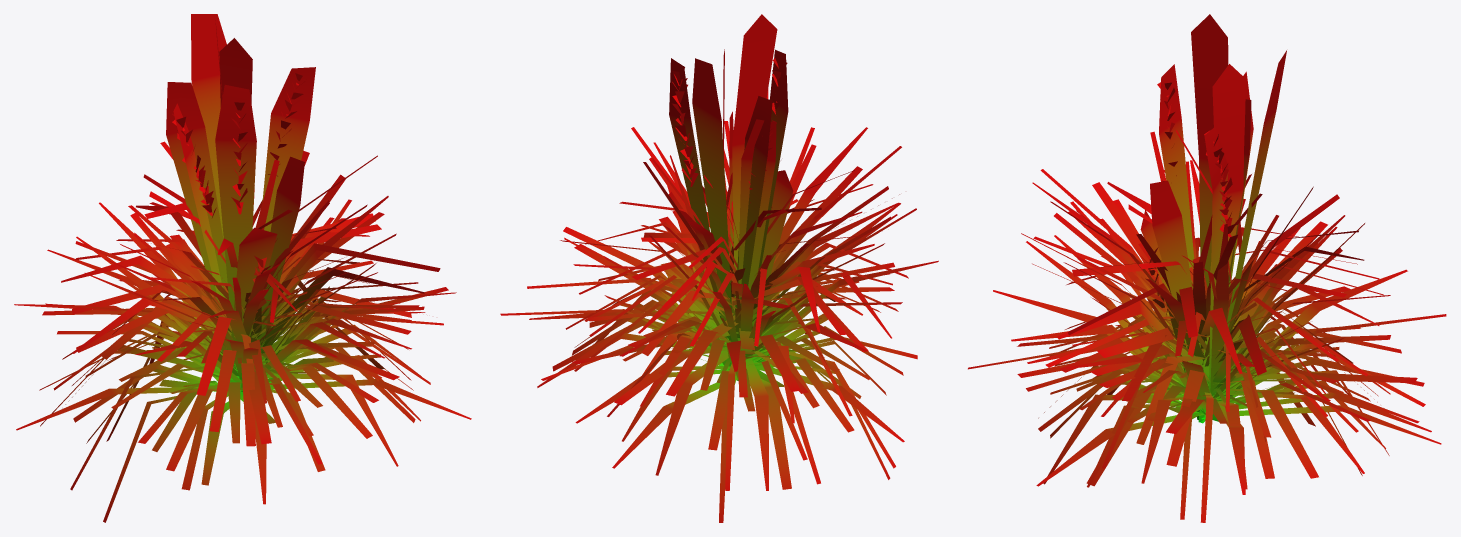
File: Var1_LOD3.fbx
3 views of the same model, side by side, from view 1: azimuth 30°, elevation 25°; view 2: azimuth 150°, elevation 25°; view 3: azimuth 270°, elevation 25° (orthographic). The views are drawn at different scales.
Visible parts, largest first — view 1: _bb0b_Var1_LOD3; view 2: _bb0b_Var1_LOD3; view 3: _bb0b_Var1_LOD3.
Part boxes in pixels (bbox=[...]): _bb0b_Var1_LOD3: bbox=[14, 14, 471, 522]; _bb0b_Var1_LOD3: bbox=[500, 14, 938, 522]; _bb0b_Var1_LOD3: bbox=[968, 14, 1446, 522].
Size of the model in its own units: 49.07 by 55.03 by 49.98.
